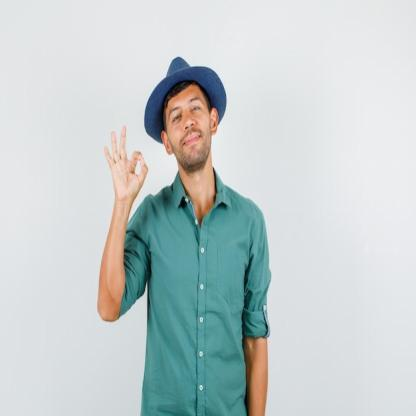ok: (99, 120, 150, 208)
